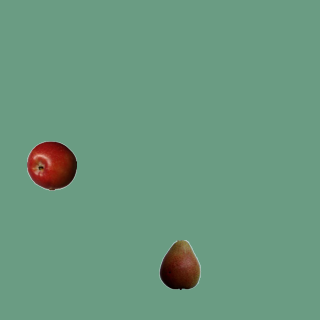Apple Braeburn: (26, 140, 76, 190)
Pear Forelle: (154, 239, 204, 289)
